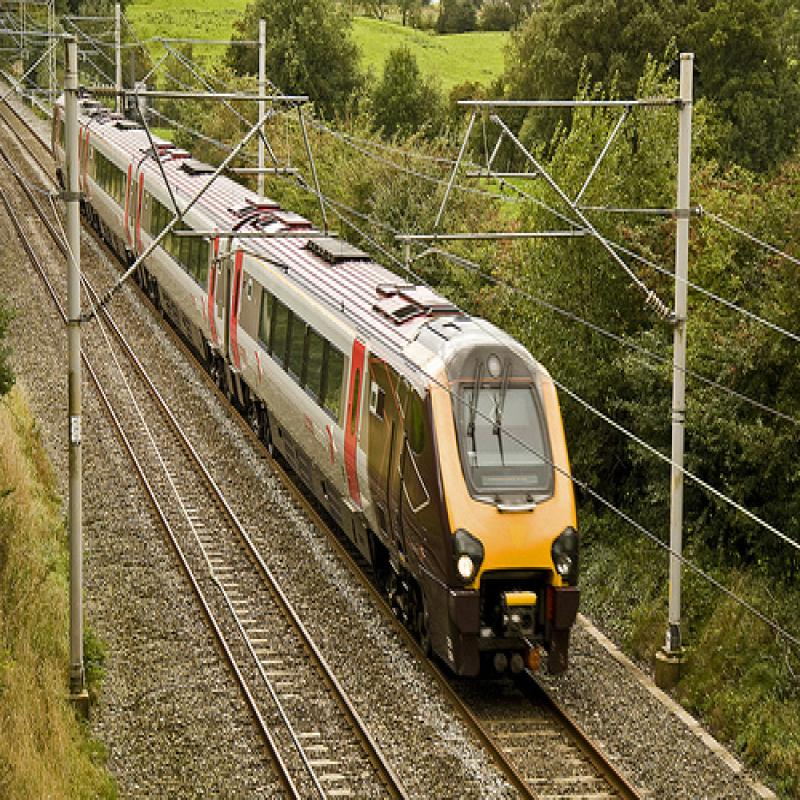train: (51, 87, 587, 693)
